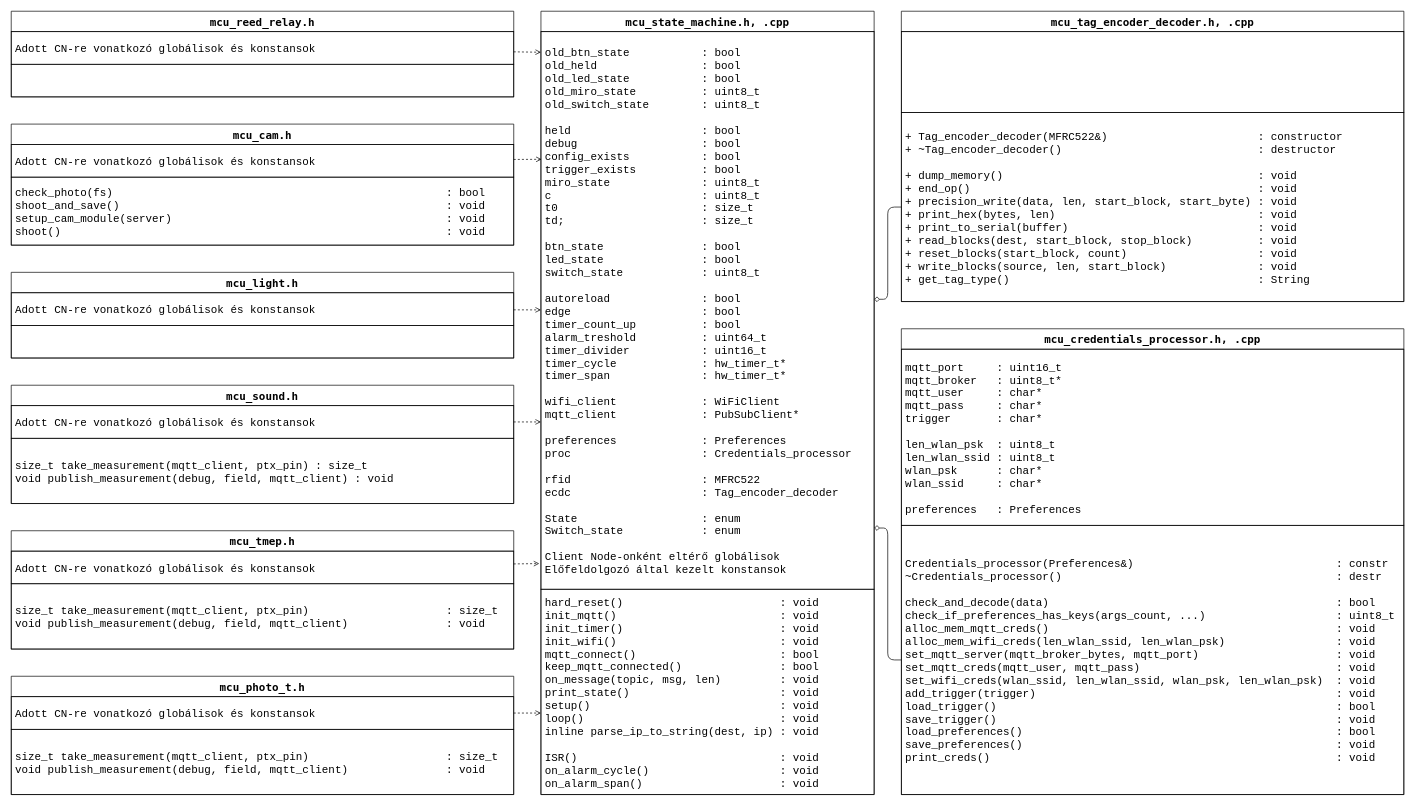
This 1415x806 diagram has some shape labels left out. The shapes that lost their labels are listed below. From the top down, each one's centre as x and y in pixels, then its label:
At pixel 262 80: "update_reed_status(debug, mqtt_client) : void".
At pixel 1152 72: "- reset_ul : uint8_t* + rfid : MFRC522".
At pixel 262 341: "actuate(actuator_out) : void".
